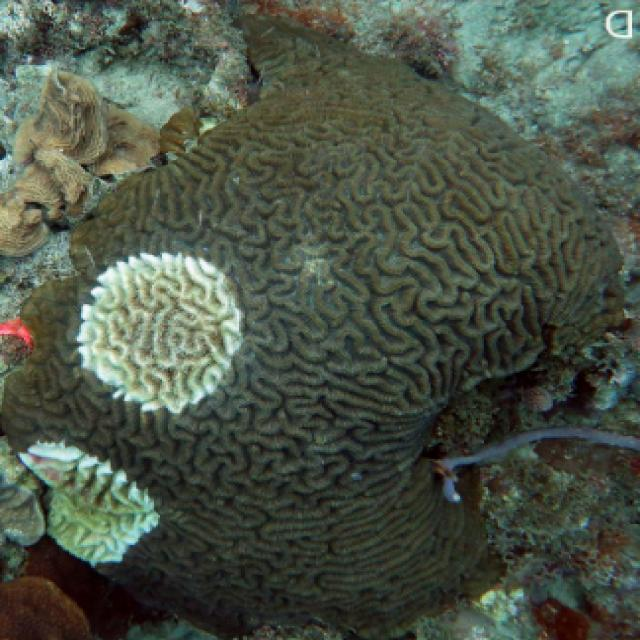Coral: (1, 11, 626, 636), (0, 67, 159, 258)
